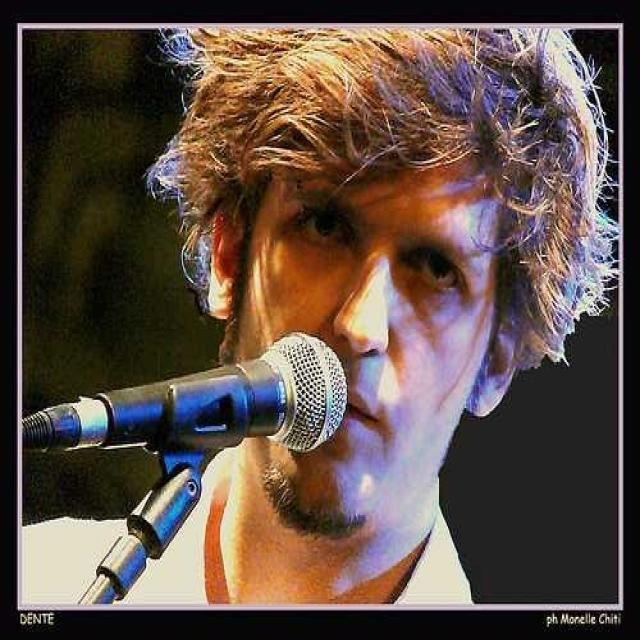microphone: (28, 333, 350, 458)
